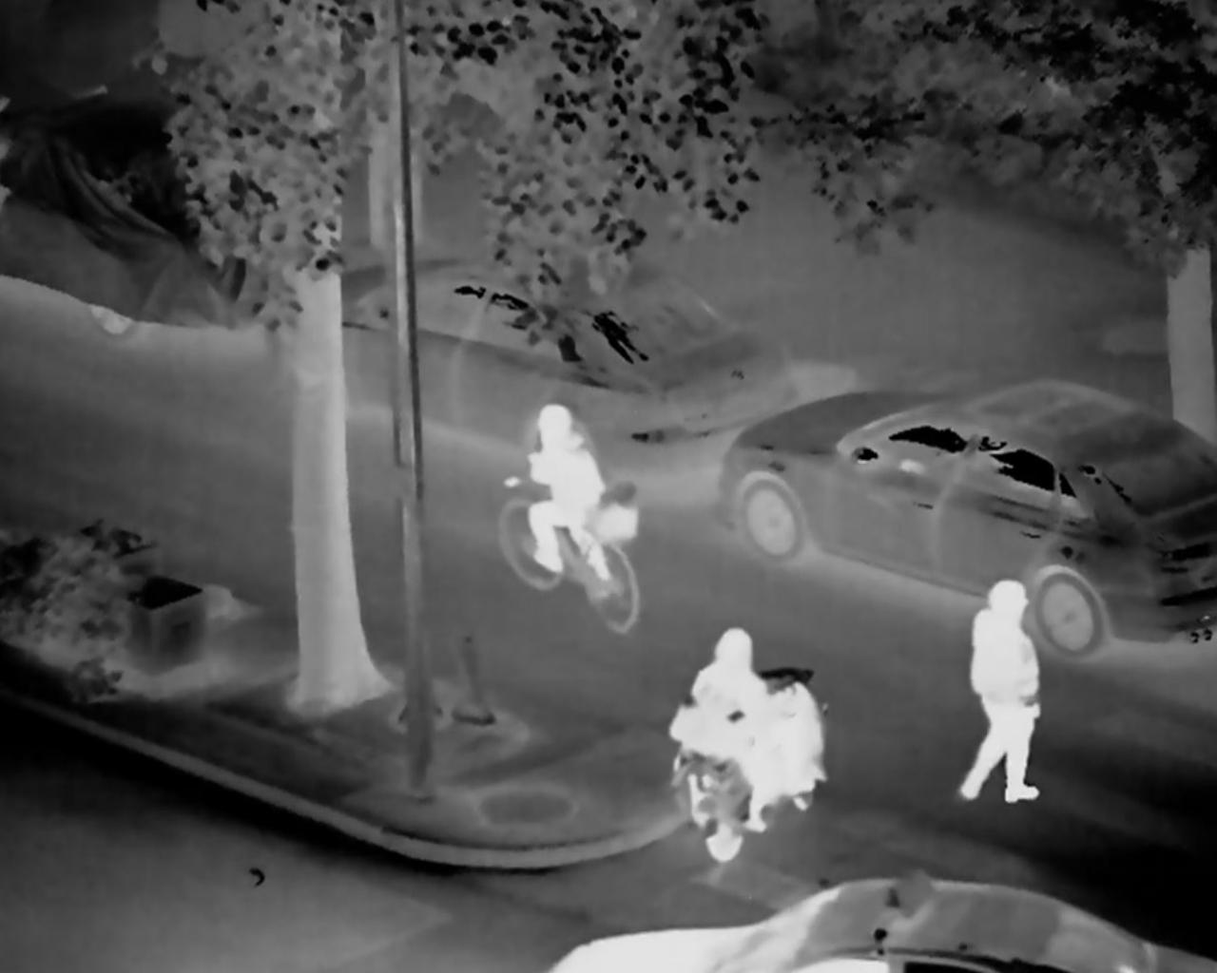person: (667, 627, 821, 835), (501, 403, 639, 617), (958, 578, 1038, 812)
